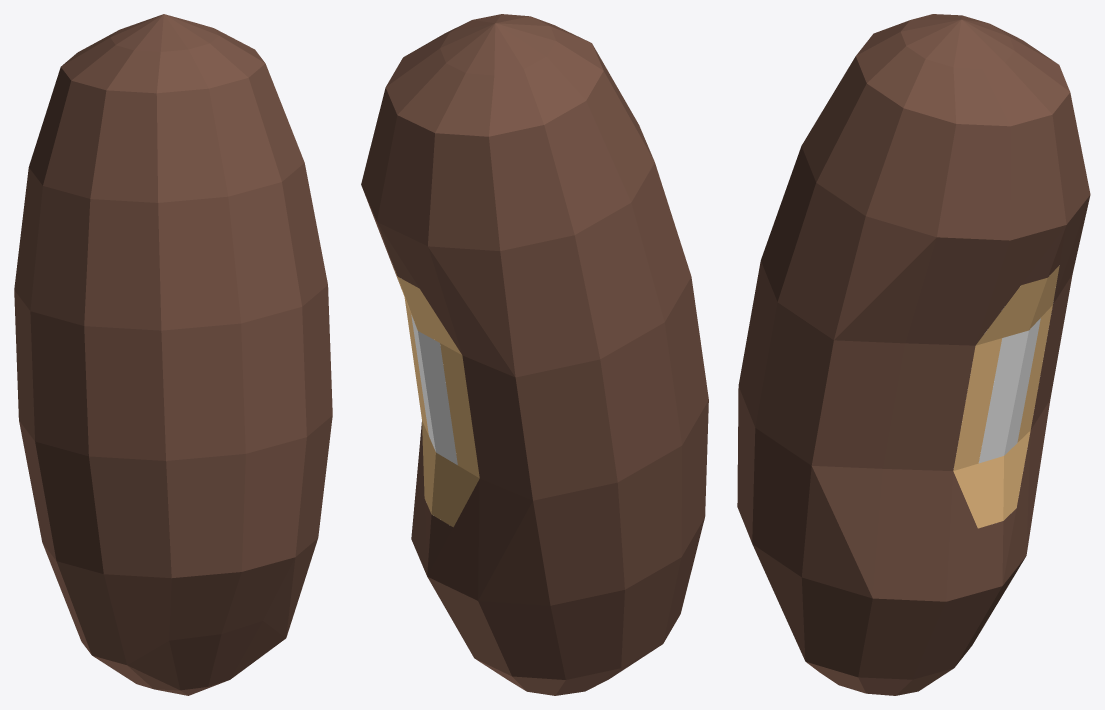
The model's file is magic_bean-optimized.glb.
3 renders of one model, left to right at view 1: azimuth 30°, elevation 25°; view 2: azimuth 150°, elevation 25°; view 3: azimuth 270°, elevation 25°, orthographic. The views are drawn at different scales.
Parts seen in each view (by area): view 1: group127060515; view 2: group127060515; view 3: group127060515.
Part boxes in pixels (x1=…): group127060515: x1=14, y1=14, x2=332, y2=695; group127060515: x1=361, y1=14, x2=708, y2=695; group127060515: x1=737, y1=14, x2=1090, y2=695.
Size of the model in its own units: 0.2933 by 0.6783 by 0.3175.
